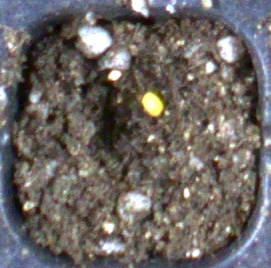pepper seed: (58, 32, 222, 150)
